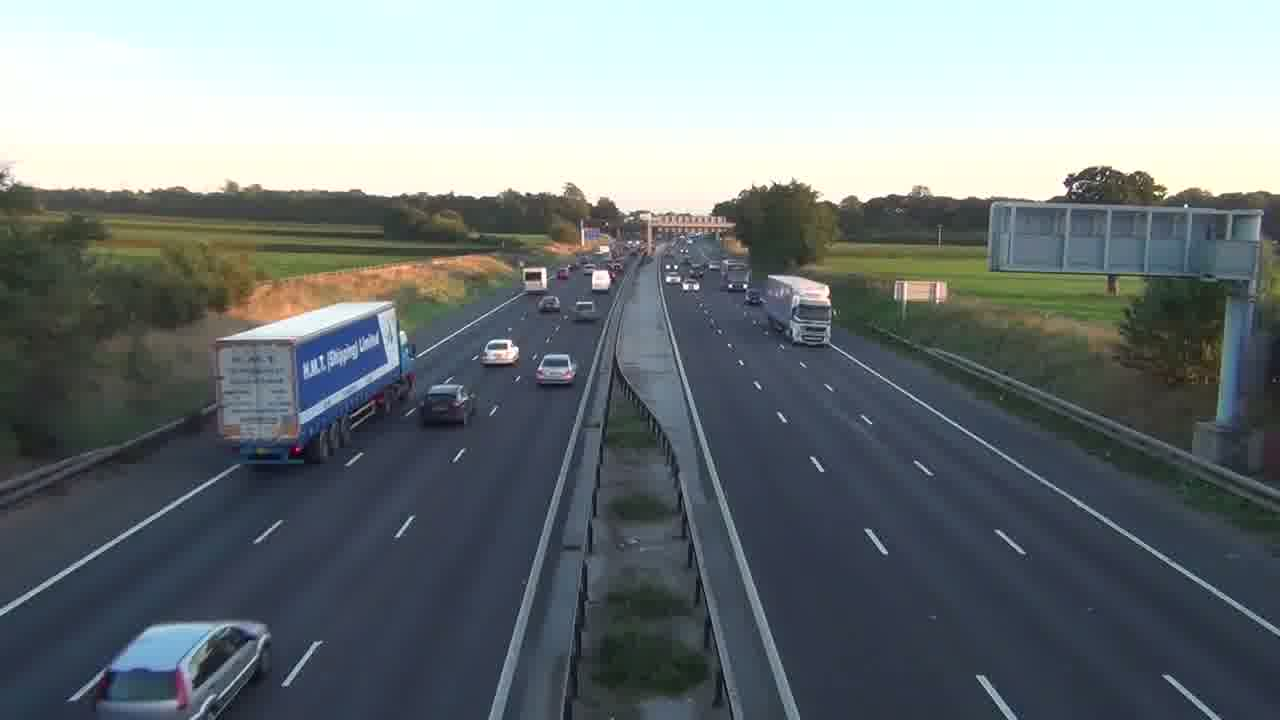car: (87, 619, 272, 718), (419, 381, 472, 426), (534, 352, 577, 387), (479, 338, 519, 367), (538, 294, 561, 314)
truck: (210, 299, 414, 464), (764, 273, 833, 340), (522, 267, 548, 293)
